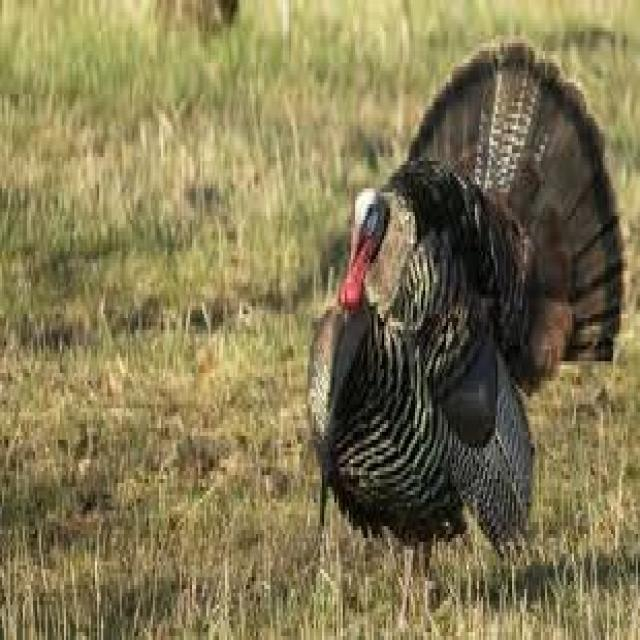Turkey: (298, 40, 628, 565)
